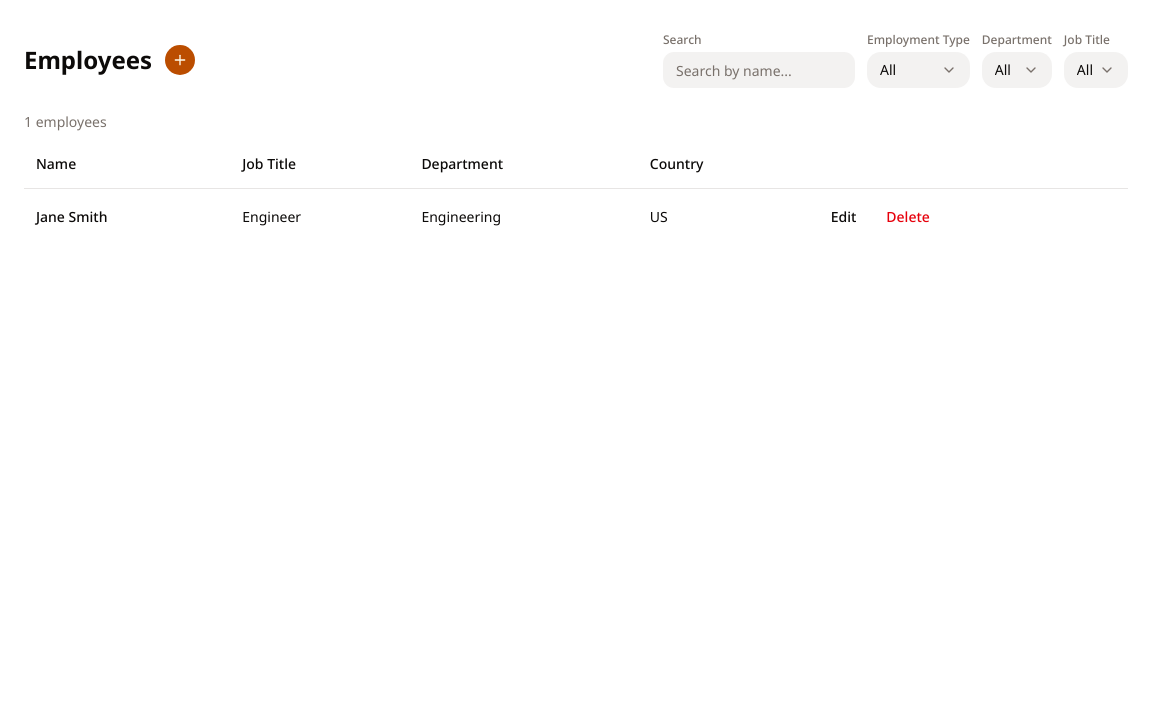
it: EmployeesPage › edit employee modal › closes the edit modal after a successful save
Expected: the button "Jane Smith" is shown, [36,206,107,226]
Click the button with aria-label "edit jane smith" at (844, 216), box [818,200,869,232]
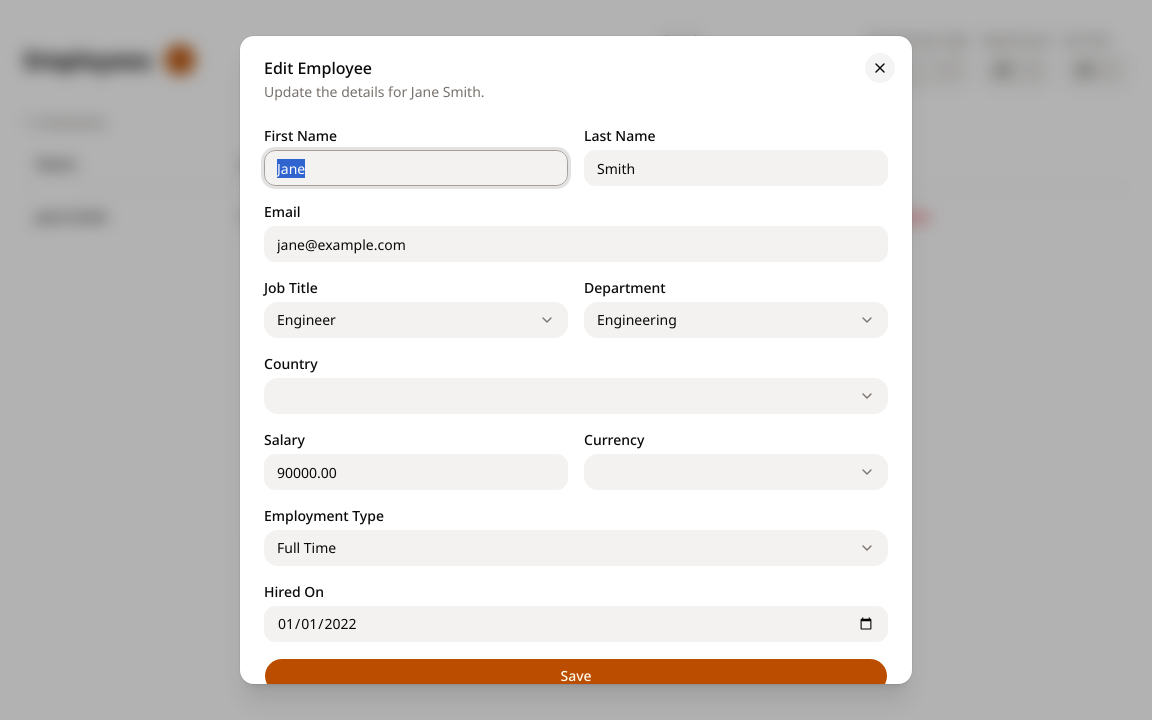
Now the dialog is shown, box [240,36,912,684]
Click the button "Save" at (576, 676), box [264,658,888,694]
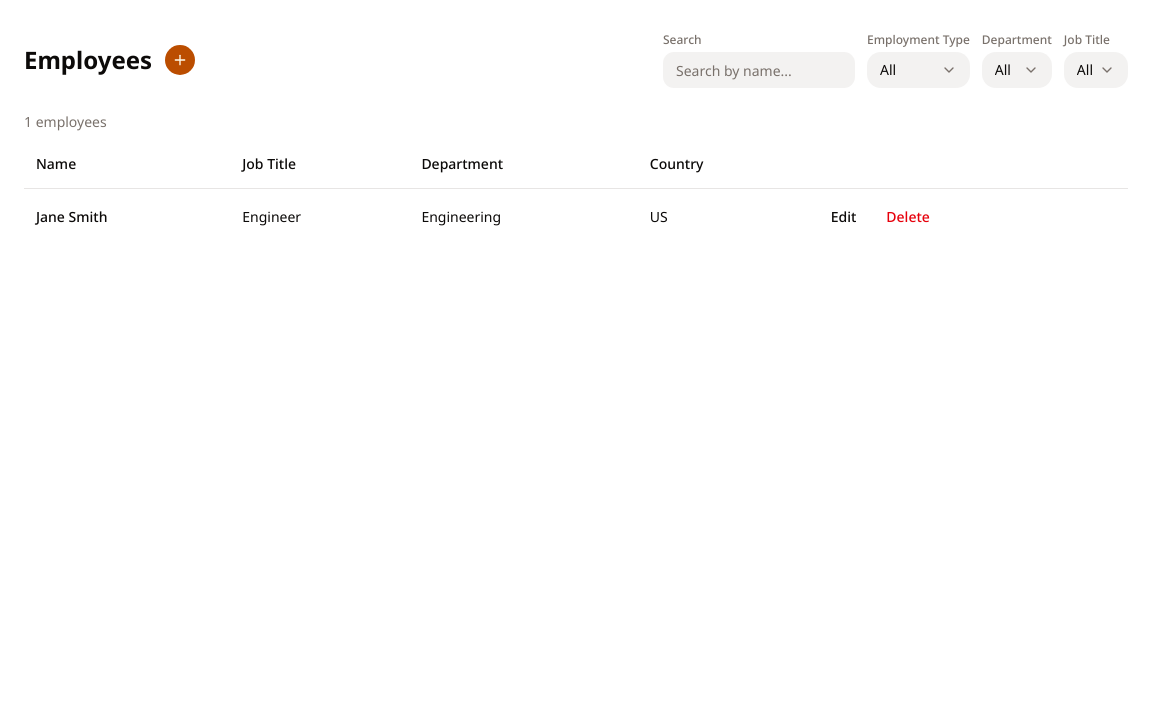
Now the dialog is gone
